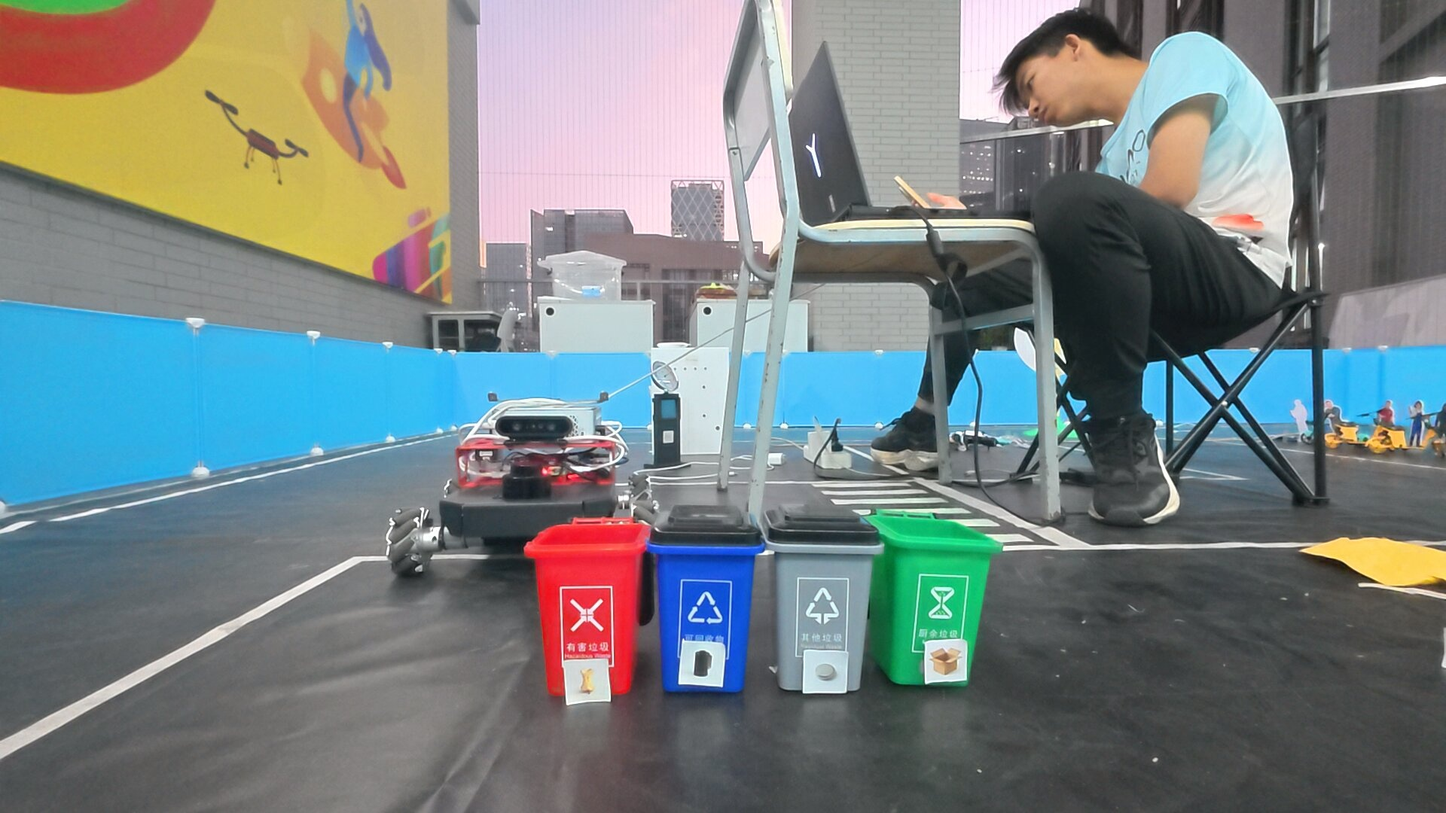food_trash: (564, 661, 609, 701)
hazardous_trash: (682, 642, 727, 687), (804, 650, 848, 695)
recyclable_trash: (925, 640, 969, 683)
